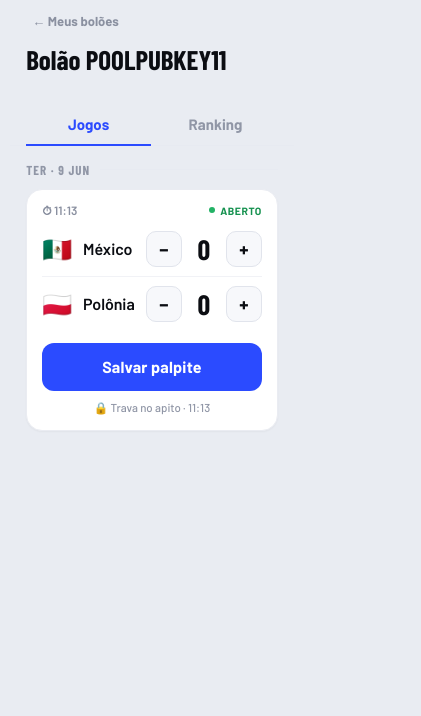
Test case: PoolPage › failed postPick after commit: queued in localStorage, saved-locally notice
This screenshot has width=421, height=716.
Click the button "Salvar palpite": {"x": 152, "y": 366} [42,342,262,390]
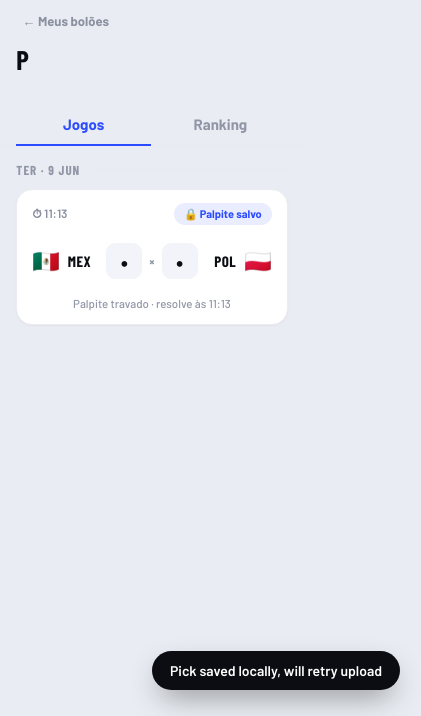
Now the text "Pick saved locally, will retry upload" is shown, box [152,651,400,690]
Now the text "🔒 Palpite salvo" is shown, box [174,202,272,224]
